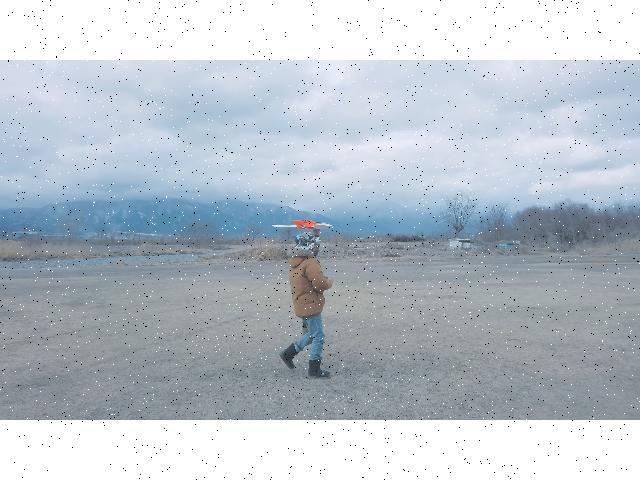Anti-Drone: (272, 218, 334, 230)
